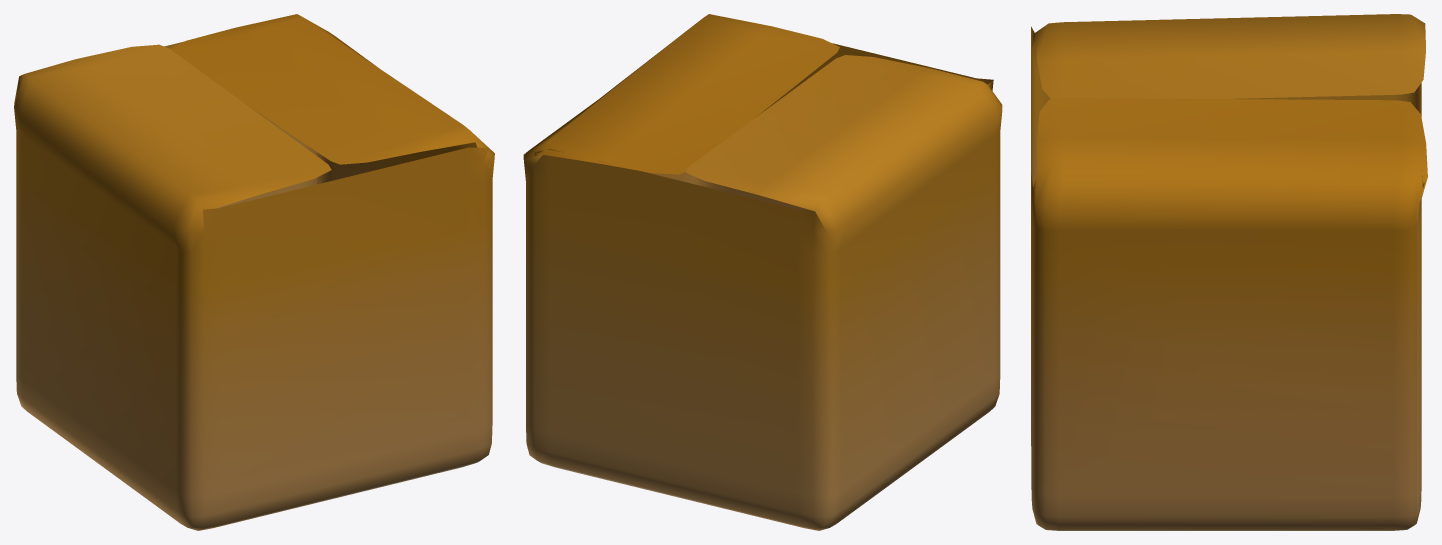
The model's file is box_closed.glb.
3 renders of one model, left to right at view 1: azimuth 30°, elevation 25°; view 2: azimuth 150°, elevation 25°; view 3: azimuth 270°, elevation 25°, orthographic. The views are drawn at different scales.
Visible parts, largest first — view 1: box_closed; view 2: box_closed; view 3: box_closed.
Part boxes in pixels (<box>): box_closed: <box>14,14,494,530</box>; box_closed: <box>523,14,1002,530</box>; box_closed: <box>1031,14,1427,530</box>.
Size of what is drawn, in the model's own units: 0.8731 by 0.8919 by 0.8742.
Materials: 1 (1 with a texture image).
